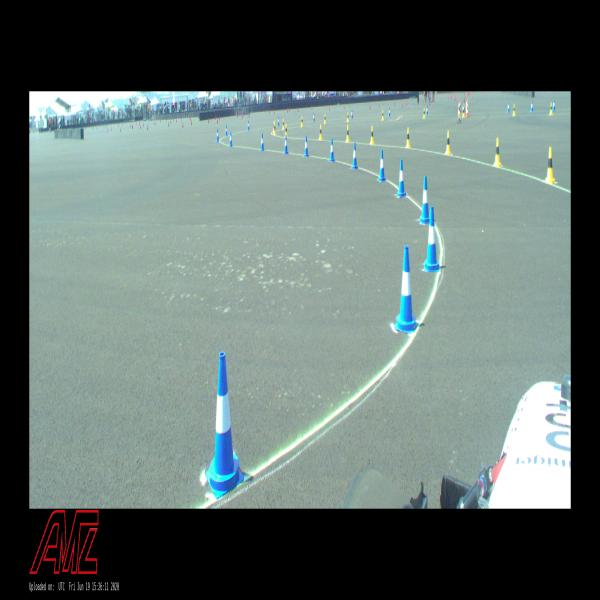blue_cone: (206, 352, 244, 498), (394, 245, 418, 333), (424, 207, 439, 271), (420, 176, 429, 224), (397, 159, 406, 197), (378, 150, 386, 181), (352, 143, 358, 169), (329, 138, 335, 161), (304, 136, 309, 157), (284, 135, 288, 154), (260, 134, 264, 150), (530, 101, 533, 112), (225, 126, 228, 136), (230, 132, 232, 146), (217, 129, 219, 142), (553, 100, 555, 110), (507, 102, 509, 112), (248, 120, 250, 130), (388, 108, 390, 117), (426, 105, 428, 114), (313, 113, 315, 121), (351, 110, 353, 118), (462, 104, 463, 114), (278, 117, 279, 126)
large_orange_cone: (466, 100, 468, 117), (458, 103, 460, 120), (465, 98, 467, 114), (459, 99, 461, 114)
yellow_cone: (545, 148, 555, 183), (494, 138, 501, 166), (445, 131, 451, 155), (406, 128, 410, 148), (370, 126, 374, 144), (346, 125, 350, 142), (319, 125, 322, 140), (512, 104, 516, 115), (285, 124, 288, 138), (282, 118, 285, 130), (346, 112, 349, 122), (462, 107, 465, 117), (274, 123, 276, 135), (550, 103, 552, 115), (301, 116, 303, 127), (324, 113, 326, 124), (382, 110, 384, 120), (423, 108, 425, 118), (273, 121, 274, 132)
